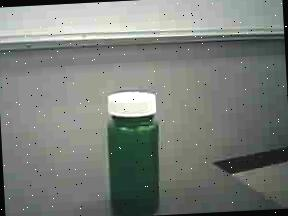Bottle C: (93, 85, 170, 216)
